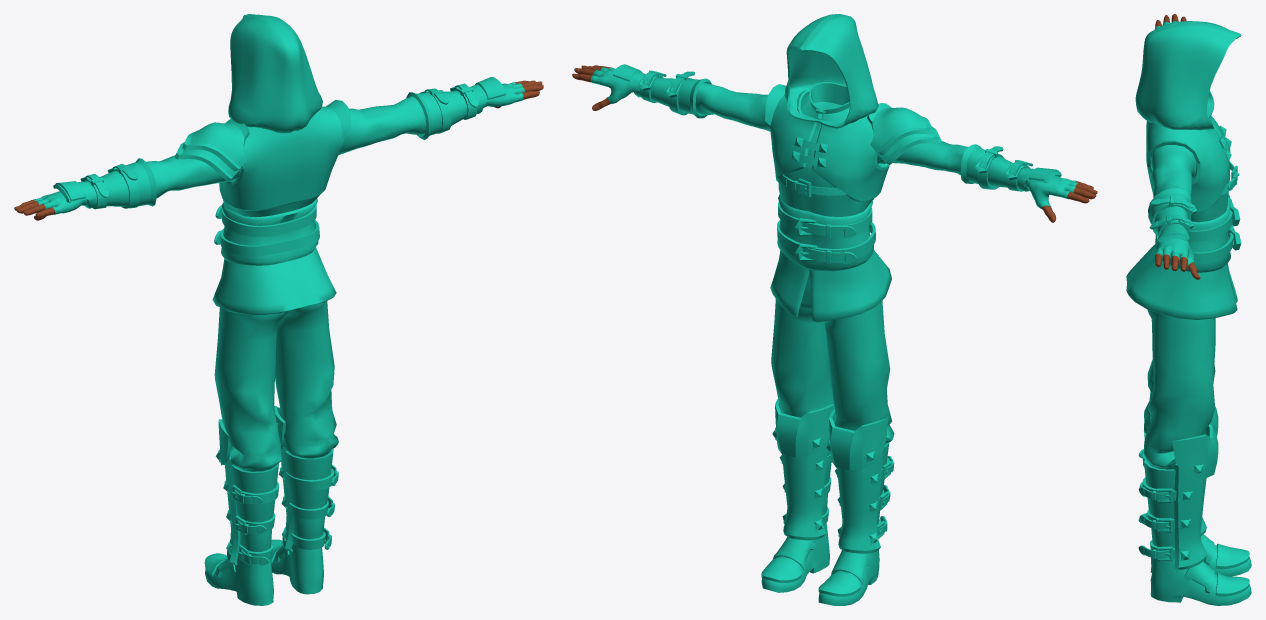
File: player.obj
3 views of the same model, side by side, from view 1: azimuth 30°, elevation 25°; view 2: azimuth 150°, elevation 25°; view 3: azimuth 270°, elevation 25° (orthographic).
Parts seen in each view (by area): view 1: Male_Ranger_Body_Male_Ranger_Body.001, Male_Ranger_Legs, Male_Ranger_Feet_Boots, Male_Ranger_Head_Hood, Male_Ranger_Arms_Male_Ranger_Arms.001, Male_Ranger_Arms_Bracer_Male_Ranger_Arms_Bracer.001, Male_Ranger_Acc_Pauldron, Male_Ranger_Body_Belt_2, Male_Ranger_Body_Belt_1; view 2: Male_Ranger_Body_Male_Ranger_Body.001, Male_Ranger_Feet_Boots, Male_Ranger_Legs, Male_Ranger_Head_Hood, Male_Ranger_Arms_Male_Ranger_Arms.001, Male_Ranger_Arms_Bracer_Male_Ranger_Arms_Bracer.001, Male_Ranger_Acc_Pauldron, Male_Ranger_Body_Belt_2, Male_Ranger_Body_Belt_1; view 3: Male_Ranger_Feet_Boots, Male_Ranger_Body_Male_Ranger_Body.001, Male_Ranger_Legs, Male_Ranger_Head_Hood, Male_Ranger_Arms_Male_Ranger_Arms.001, Male_Ranger_Arms_Bracer_Male_Ranger_Arms_Bracer.001, Male_Ranger_Body_Belt_2, Male_Ranger_Body_Belt_1.
Part boxes in pixels (bbox=[...]): Male_Ranger_Body_Male_Ranger_Body.001: bbox=[212, 100, 351, 315]; Male_Ranger_Legs: bbox=[214, 301, 338, 471]; Male_Ranger_Feet_Boots: bbox=[204, 406, 338, 605]; Male_Ranger_Head_Hood: bbox=[228, 14, 322, 133]; Male_Ranger_Arms_Male_Ranger_Arms.001: bbox=[14, 80, 543, 220]; Male_Ranger_Arms_Bracer_Male_Ranger_Arms_Bracer.001: bbox=[53, 77, 507, 209]; Male_Ranger_Acc_Pauldron: bbox=[174, 119, 249, 180]; Male_Ranger_Body_Belt_2: bbox=[214, 220, 319, 256]; Male_Ranger_Body_Belt_1: bbox=[215, 204, 316, 236]; Male_Ranger_Body_Male_Ranger_Body.001: bbox=[765, 82, 891, 321]; Male_Ranger_Feet_Boots: bbox=[761, 398, 894, 605]; Male_Ranger_Legs: bbox=[771, 272, 894, 443]; Male_Ranger_Head_Hood: bbox=[784, 14, 878, 128]; Male_Ranger_Arms_Male_Ranger_Arms.001: bbox=[572, 65, 1097, 222]; Male_Ranger_Arms_Bracer_Male_Ranger_Arms_Bracer.001: bbox=[611, 64, 1061, 191]; Male_Ranger_Acc_Pauldron: bbox=[867, 103, 941, 164]; Male_Ranger_Body_Belt_2: bbox=[777, 220, 875, 263]; Male_Ranger_Body_Belt_1: bbox=[778, 202, 872, 238]; Male_Ranger_Feet_Boots: bbox=[1138, 406, 1251, 605]; Male_Ranger_Body_Male_Ranger_Body.001: bbox=[1126, 116, 1239, 319]; Male_Ranger_Legs: bbox=[1143, 309, 1215, 469]; Male_Ranger_Head_Hood: bbox=[1135, 21, 1241, 130]; Male_Ranger_Arms_Male_Ranger_Arms.001: bbox=[1151, 14, 1200, 279]; Male_Ranger_Arms_Bracer_Male_Ranger_Arms_Bracer.001: bbox=[1148, 22, 1197, 244]; Male_Ranger_Body_Belt_2: bbox=[1155, 224, 1241, 263]; Male_Ranger_Body_Belt_1: bbox=[1188, 199, 1240, 241].
Size of the model in its own units: 1.8 by 1.85 by 0.3735.
